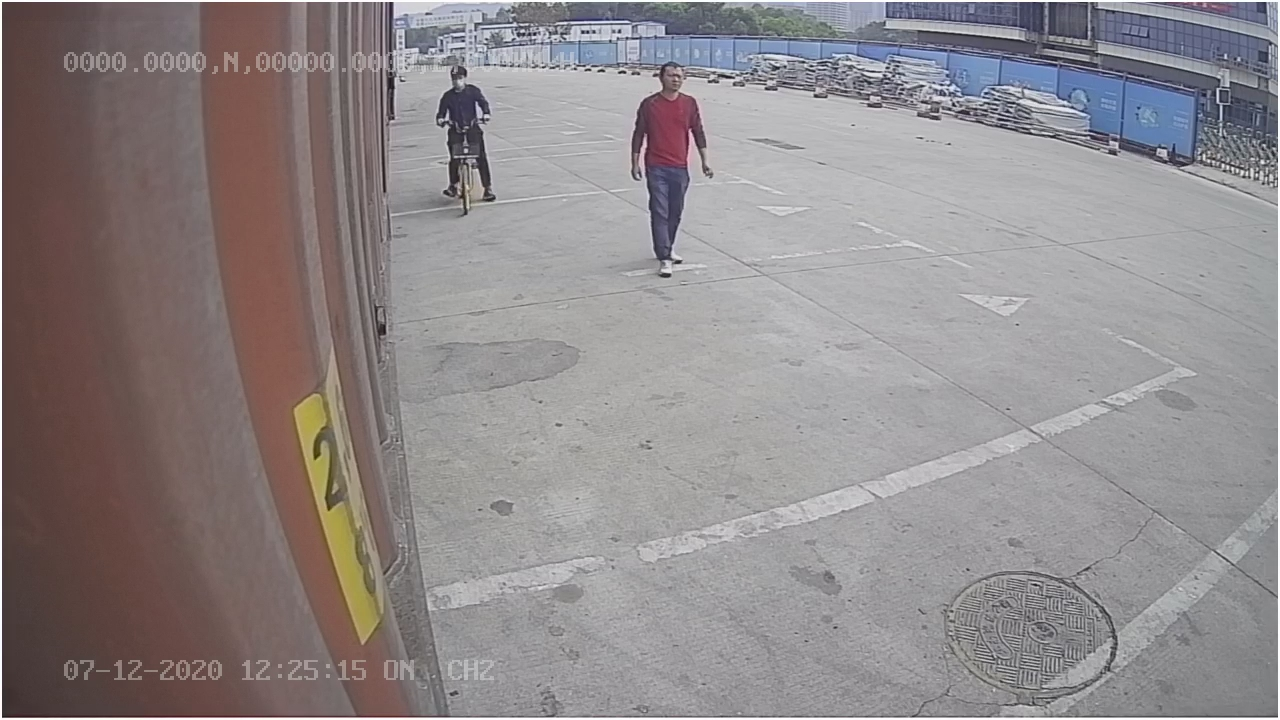person: (625, 60, 716, 284)
